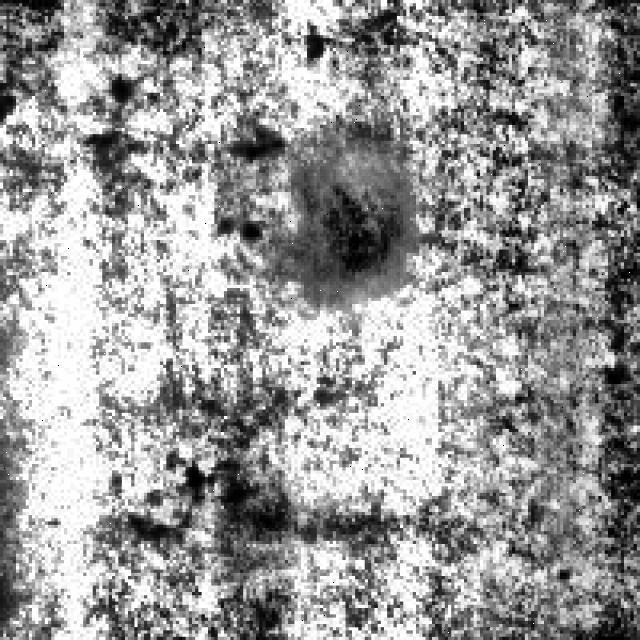Scratches: (300, 147, 426, 307)
